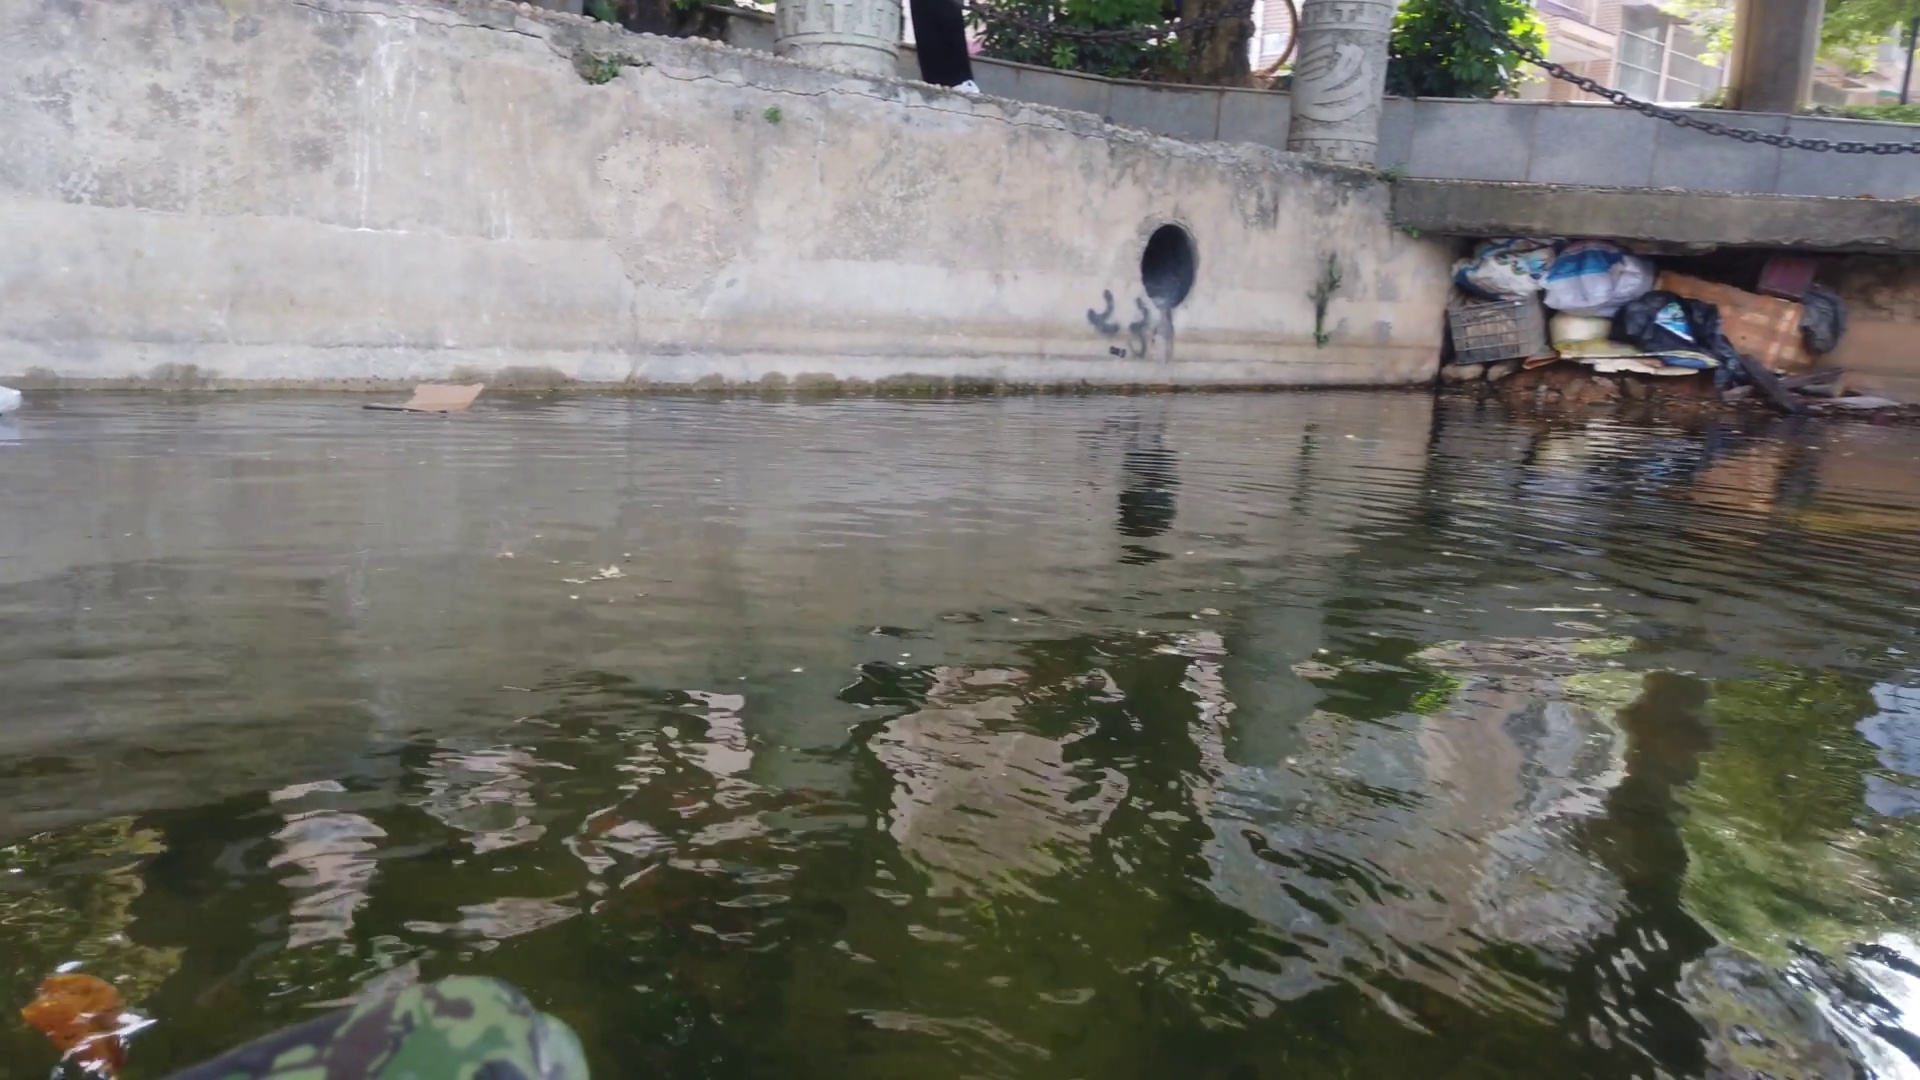paper: (363, 381, 487, 415)
plastic: (1, 384, 20, 415)
